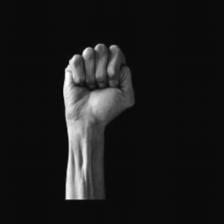five: (58, 38, 140, 156)
